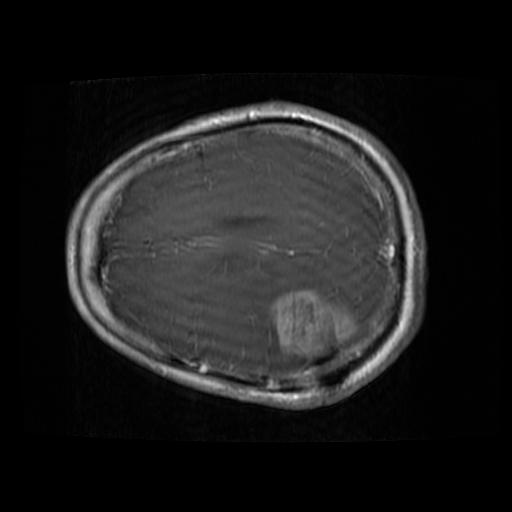glioma: (265, 285, 356, 361)
